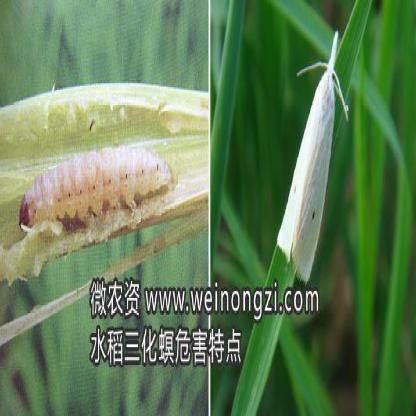stem-borer: (274, 28, 350, 286)
